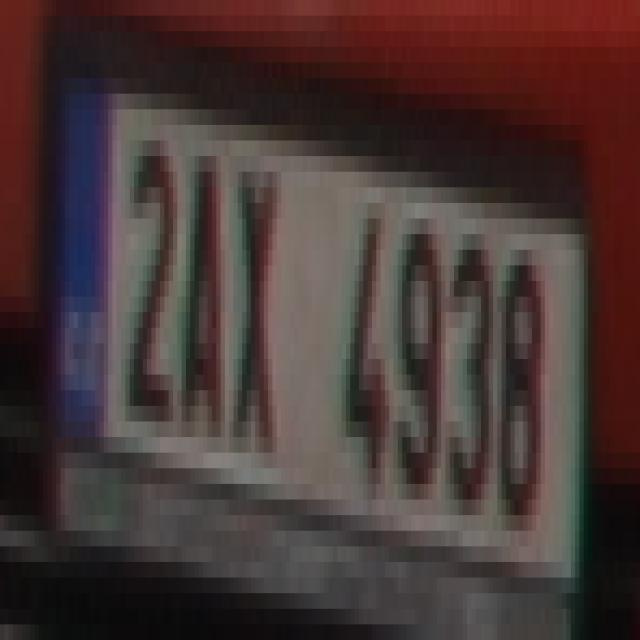2: (117, 124, 177, 390)
3: (446, 235, 488, 500)
4: (333, 172, 393, 468)
8: (497, 250, 549, 516)
9: (389, 218, 441, 516)
A: (182, 156, 224, 437)
X: (225, 141, 272, 437)
